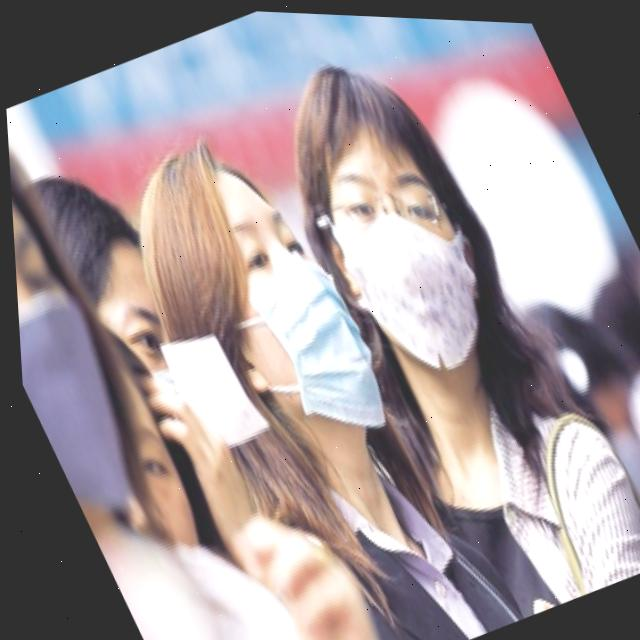Mask: (195, 230, 402, 466), (320, 171, 518, 387), (13, 286, 144, 508)
